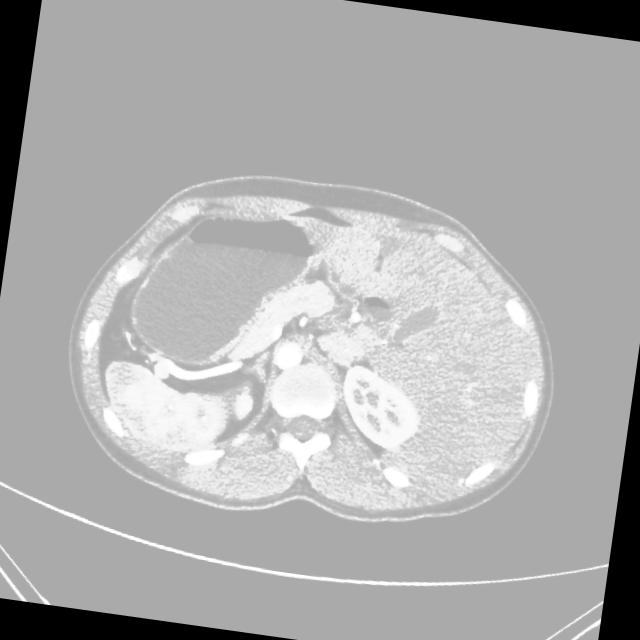NORMAL: (17, 113, 615, 576)
